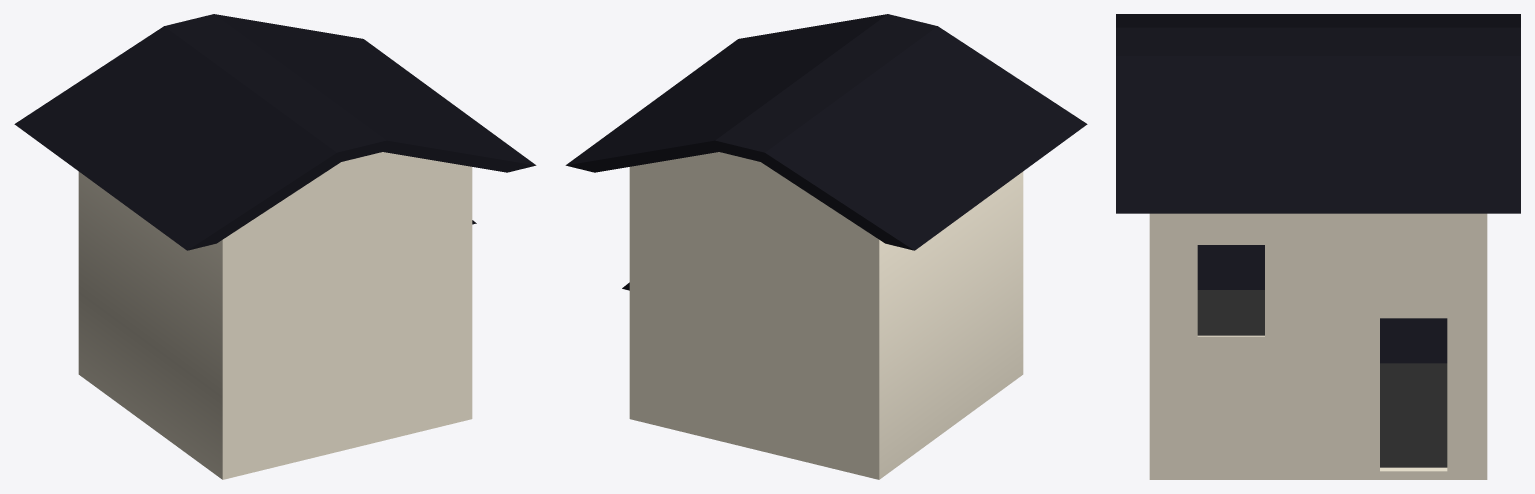
The model's file is jadehouse5m.fbx.
3 renders of one model, left to right at view 1: azimuth 30°, elevation 25°; view 2: azimuth 150°, elevation 25°; view 3: azimuth 270°, elevation 25°, orthographic. The views are drawn at different scales.
Visible parts, largest first — view 1: pCube44; view 2: pCube44; view 3: pCube44.
Part boxes in pixels (x1,y1,x2,y2): pCube44: (14,14,536,479); pCube44: (565,14,1087,479); pCube44: (1116,14,1520,479).
Bounding box in the file's own units: 7 × 6 × 6.
